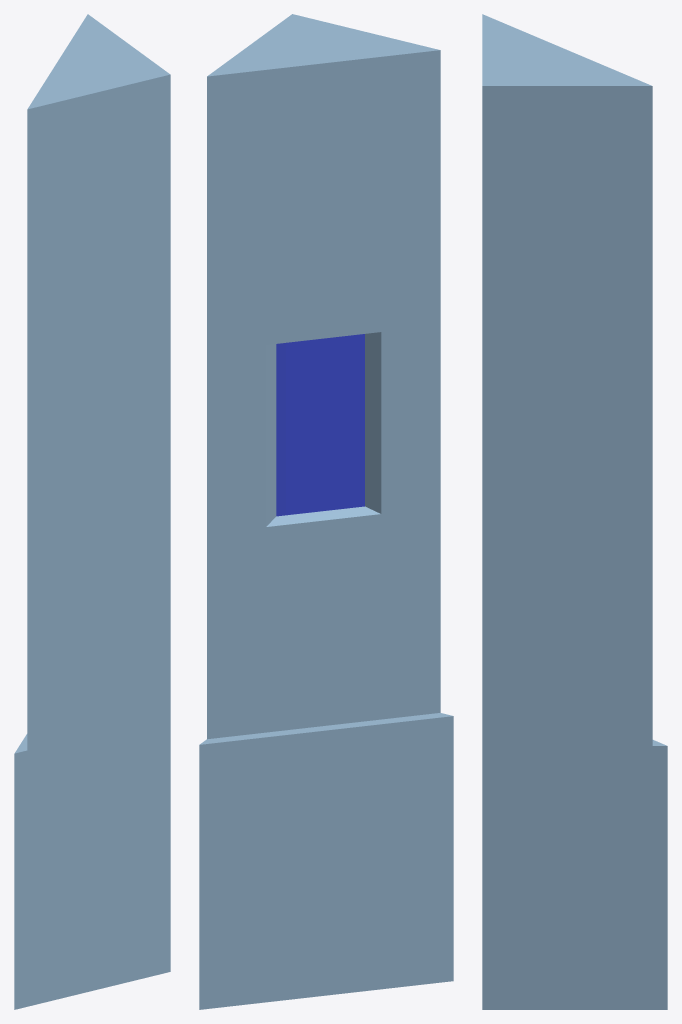
The model's file is EspacioRedSocialEsquinaAperturaInteriorAltoNI.gltf.
3 views of the same model, side by side, from view 1: azimuth 30°, elevation 25°; view 2: azimuth 150°, elevation 25°; view 3: azimuth 270°, elevation 25° (orthographic). The views are drawn at different scales.
Parts seen in each view (by area): view 1: Cubo.34; view 2: Cubo.34; view 3: Cubo.34.
Part boxes in pixels (bbox=[...]): Cubo.34: bbox=[14, 14, 170, 1009]; Cubo.34: bbox=[199, 14, 453, 1009]; Cubo.34: bbox=[482, 14, 667, 1009].
Bounding box in the file's own units: 0.3641 × 2 × 0.3641.
1 material, 1 textured.
